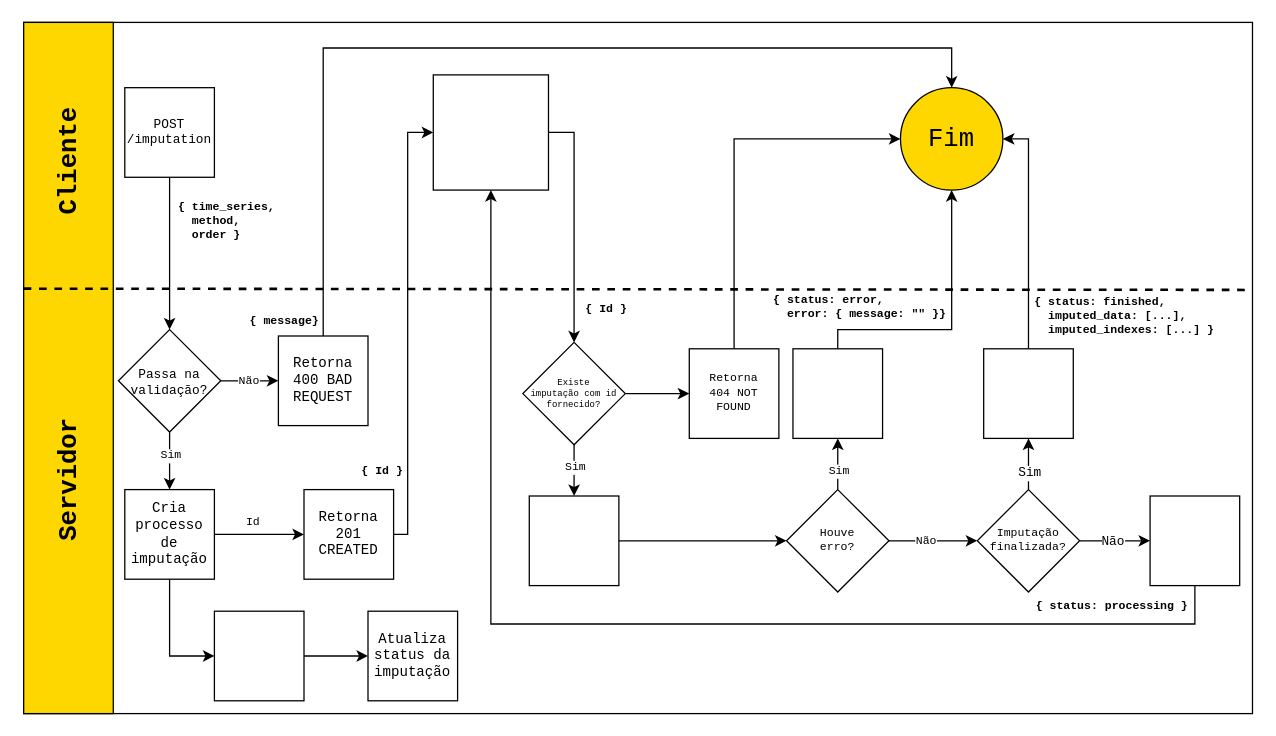
This 1276x736 diagram has some shape labels left out. The centre of each missing label's shape, as x and y in pixels:
"GET /imputation/<id>" belongs at point 490,132.
"Realiza processo de imputação" belongs at point 258,655.
"Retorna resposta com a série imputada" belongs at point 1027,393.
"Retorna resposta com mensagem informando erro" belongs at point 837,393.
"Retorna resposta sem a série imputada" belongs at point 1194,540.
"Verifica status da imputação" belongs at point 573,540.
